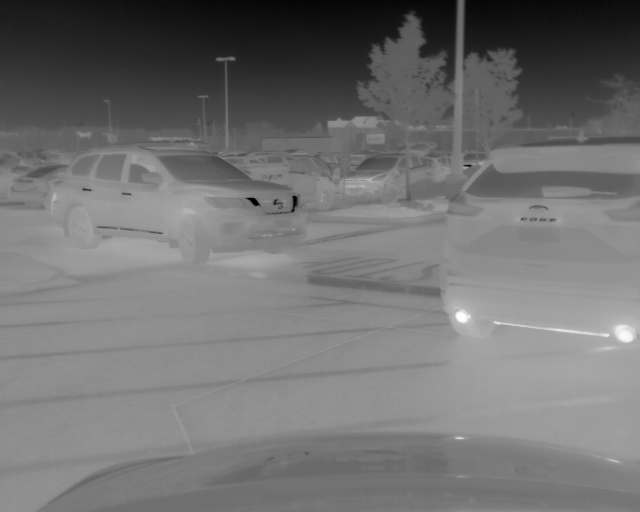car: (437, 136, 640, 347), (43, 146, 309, 269), (222, 151, 337, 211), (340, 152, 438, 201), (4, 163, 71, 208), (461, 151, 487, 169)
